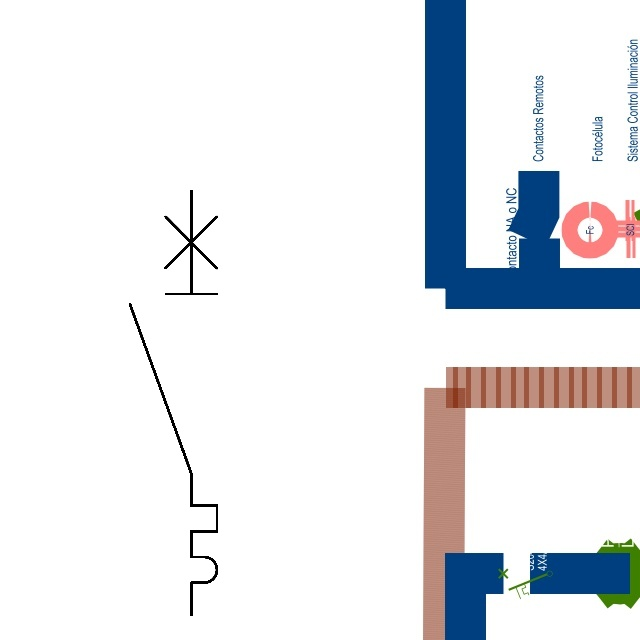interruptor_termomagnetico: (119, 180, 228, 626)
